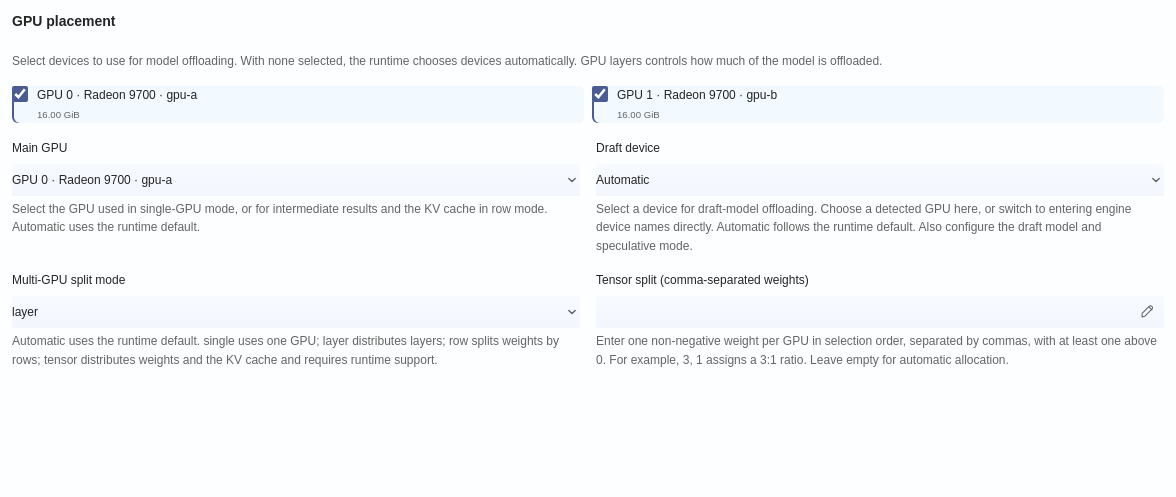
Test: DraftGpuEditor linkage › names a main GPU and a split mode instead of offering an automatic choice
Expected: the dropdown named "Main GPU" shows "gpu-a", top-left (12, 164), bottom-right (580, 196)
Click the dropdown named "Multi-GPU split mode" at [25, 312], box top-left (12, 296), bottom-right (580, 328)
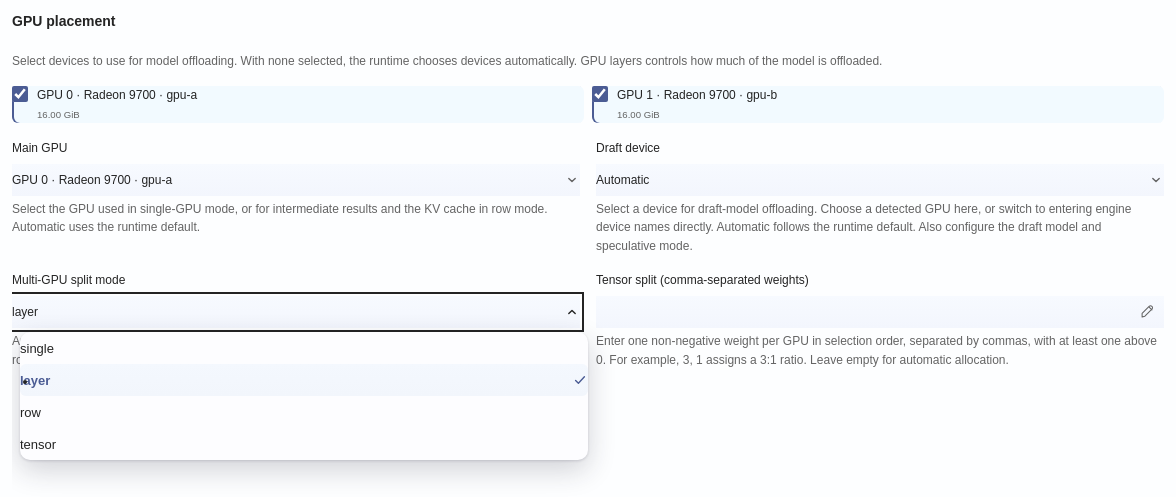
Result: the number of options is 4 at top-left (20, 341), bottom-right (54, 356); top-left (20, 364), bottom-right (588, 396); top-left (20, 405), bottom-right (41, 420); top-left (20, 437), bottom-right (56, 452)
